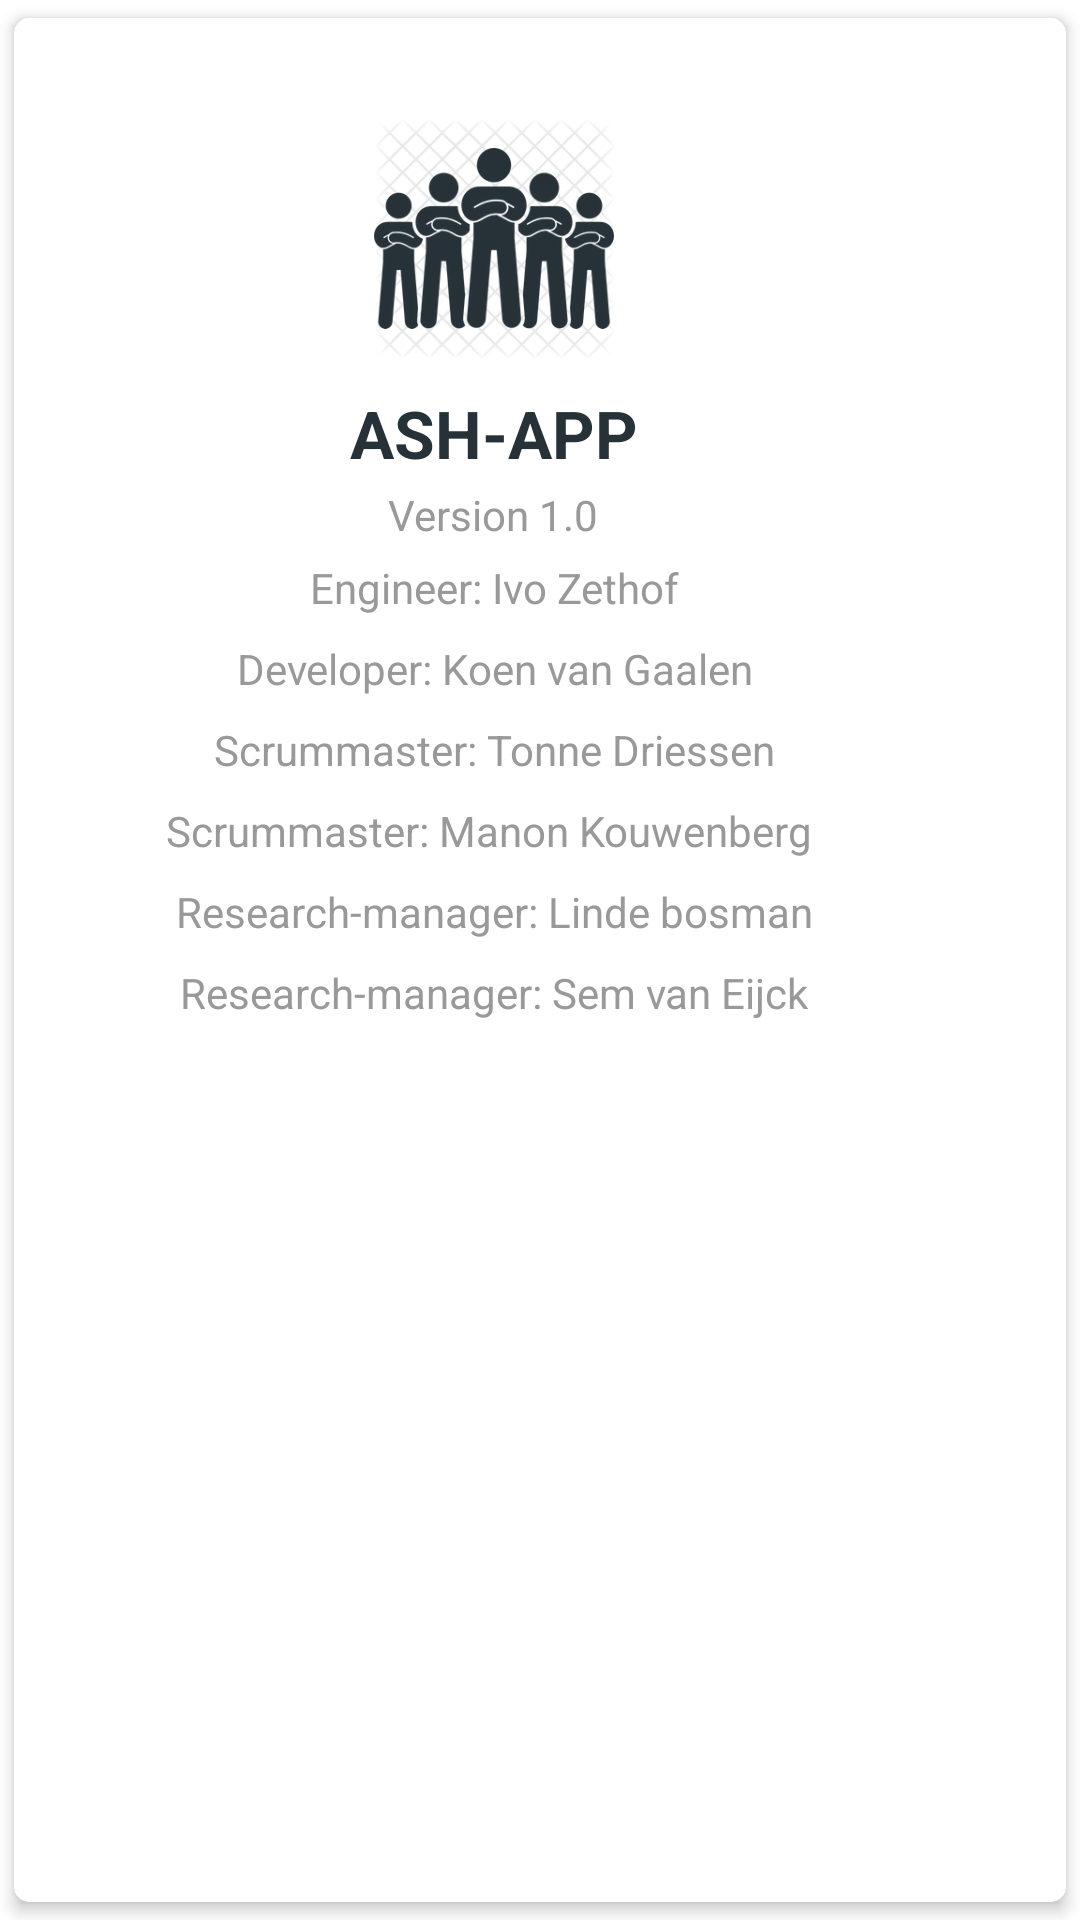

Where to tap for icons on this 1080 x 1920 app screen, as [x,y]:
team: [494,239]
